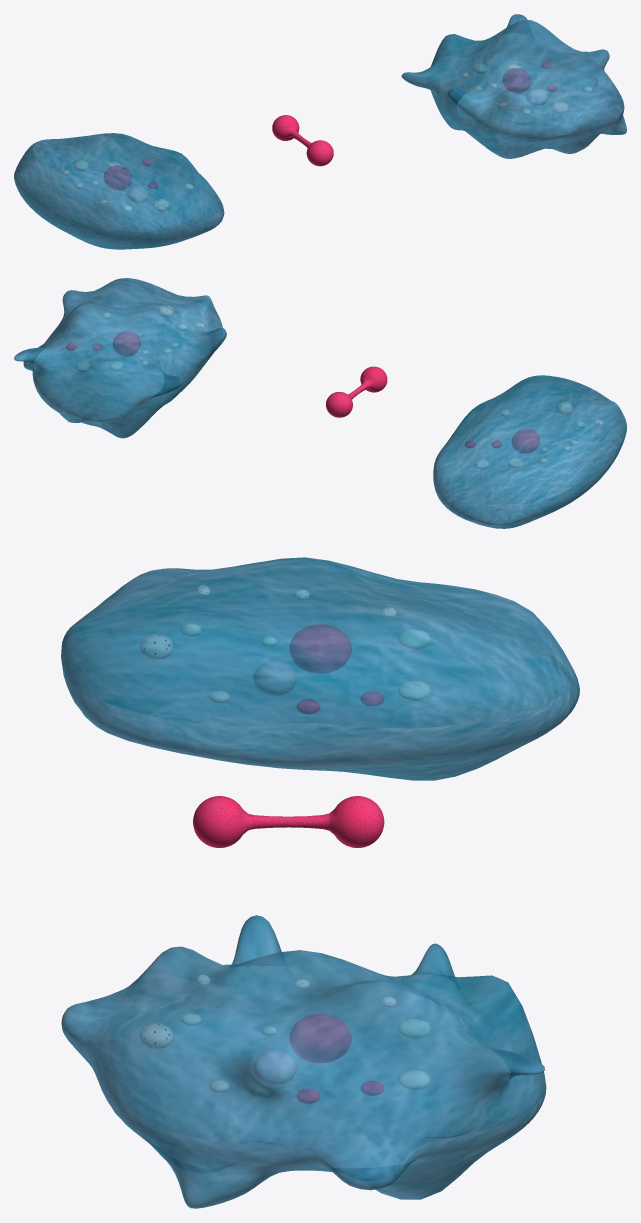
Rendered from amoeba.glb.
3 renders of one model, top to bottom at view 1: azimuth 30°, elevation 25°; view 2: azimuth 150°, elevation 25°; view 3: azimuth 270°, elevation 25°, orthographic. The views are drawn at different scales.
Parts seen in each view (by area): view 1: pCube1, pCube2, pSphere17, pSphere1 (×2); view 2: pCube1, pCube2, pSphere17, pSphere1 (×2); view 3: pCube1, pCube2, pSphere17, pSphere1 (×2), pSphere10 (×2).
Part boxes in pixels (bbox=[...]): pCube1: bbox=[401, 14, 626, 158]; pCube2: bbox=[14, 133, 224, 249]; pSphere17: bbox=[272, 115, 333, 166]; pSphere1 (×2): bbox=[104, 68, 530, 190]; pCube1: bbox=[14, 278, 226, 438]; pCube2: bbox=[433, 375, 626, 528]; pSphere17: bbox=[326, 366, 387, 417]; pSphere1 (×2): bbox=[113, 331, 539, 453]; pCube1: bbox=[61, 915, 546, 1208]; pCube2: bbox=[61, 557, 579, 780]; pSphere17: bbox=[193, 796, 384, 847]; pSphere1 (×2): bbox=[289, 624, 351, 1062]; pSphere10 (×2): bbox=[253, 661, 296, 1085].
Size of the model in its own units: 0.1938 by 0.0357 by 0.0776.
5 materials, 3 textured.
